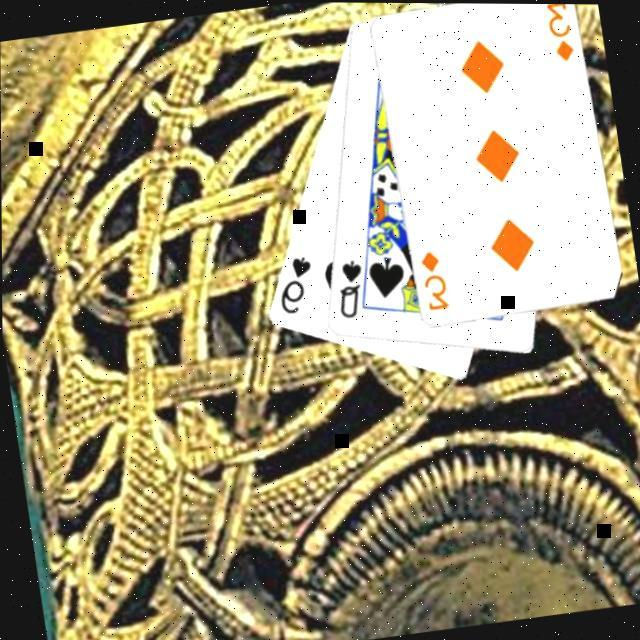3D: (416, 247, 453, 316), (542, 3, 579, 68)
6S: (271, 253, 321, 320)
QS: (329, 256, 372, 324)
